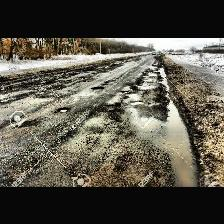pothole: (58, 106, 68, 112), (130, 100, 144, 104), (90, 86, 104, 88), (122, 90, 128, 92)
